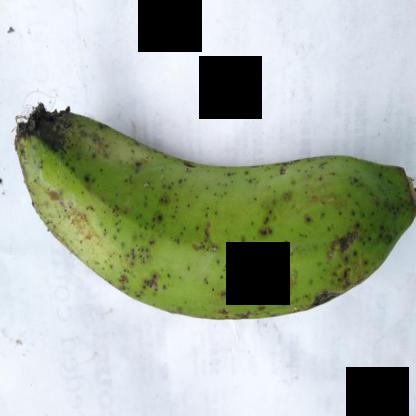unripe: (14, 105, 415, 353)
